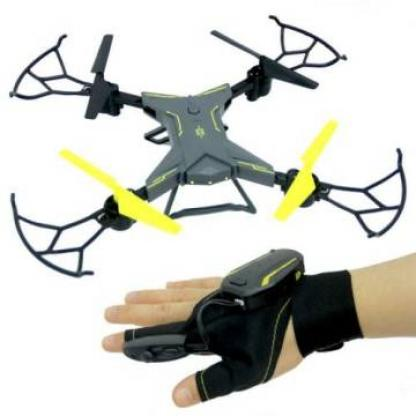drone: (8, 37, 408, 277)
